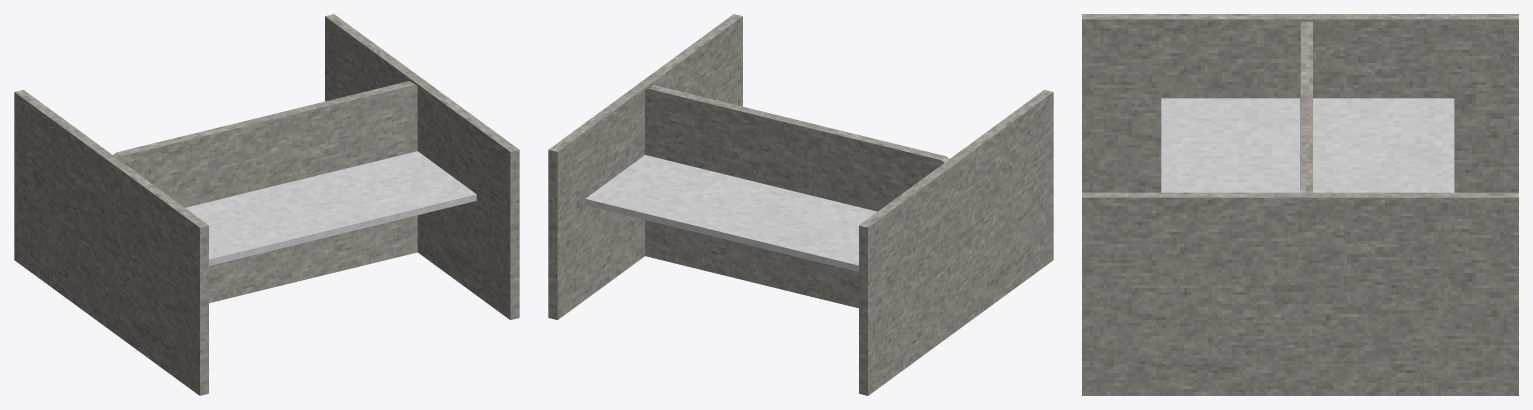
File: divider_full_h_desk.glb
3 renders of one model, left to right at view 1: azimuth 30°, elevation 25°; view 2: azimuth 150°, elevation 25°; view 3: azimuth 270°, elevation 25°, orthographic. The views are drawn at different scales.
Visible parts, largest first — view 1: divider_full_h_desk; view 2: divider_full_h_desk; view 3: divider_full_h_desk.
Boxes of the visible parts, box(x1,y1,x2,y2) form: divider_full_h_desk: box(14, 14, 519, 395); divider_full_h_desk: box(548, 14, 1053, 395); divider_full_h_desk: box(1082, 14, 1518, 395).
Bounding box in the file's own units: 2.99 × 1.5 × 3.
Materials: 1 (1 with a texture image).
